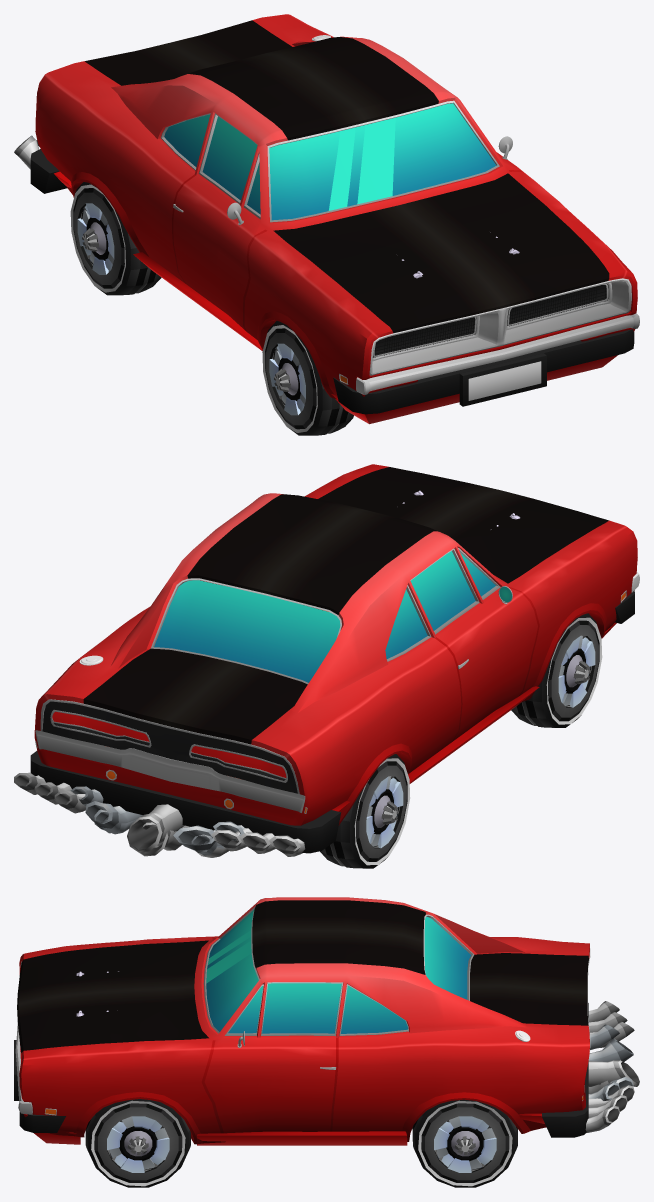
The model's file is Car.fbx.
3 views of the same model, one above another, from view 1: azimuth 30°, elevation 25°; view 2: azimuth 150°, elevation 25°; view 3: azimuth 270°, elevation 25° (orthographic). The views are drawn at different scales.
Parts seen in each view (by area): view 1: CarTop, CarHood, CarBase, Wheel_Lvl3F, Wheel_Lvl3B, Wheel_Lvl5F, Wheel_Lvl5B, Wheel_Lvl4B, Wheel_Lvl2F, Wheel_Lvl2B, Wheel_Lvl4F; view 2: CarTop, CarHood, CarBase, Exhaust_Lvl5, Wheel_Lvl3B, Wheel_Lvl3F, Exhaust_Lvl3, Wheel_Lvl5B, Wheel_Lvl5F, Wheel_Lvl4B, Wheel_Lvl2B, Wheel_Lvl2F (+1 smaller); view 3: CarTop, CarHood, CarBase, Wheel_Lvl3B, Wheel_Lvl3F, Exhaust_Lvl5, Wheel_Lvl5F, Wheel_Lvl5B, Exhaust_Lvl3, Wheel_Lvl2B, Wheel_Lvl2F, Wheel_Lvl4B (+1 smaller).
Boxes of the visible parts, x1,y1,x2,y2 form: CarTop: [35, 14, 639, 399]; CarHood: [273, 173, 609, 326]; CarBase: [30, 149, 634, 424]; Wheel_Lvl3F: [265, 328, 348, 435]; Wheel_Lvl3B: [73, 188, 155, 294]; Wheel_Lvl5F: [262, 321, 322, 435]; Wheel_Lvl5B: [70, 182, 130, 295]; Wheel_Lvl4B: [80, 205, 161, 295]; Wheel_Lvl2F: [274, 350, 305, 404]; Wheel_Lvl2B: [82, 210, 114, 264]; Wheel_Lvl4F: [272, 346, 353, 435]; CarTop: [34, 464, 639, 825]; CarHood: [318, 467, 608, 583]; CarBase: [30, 590, 634, 853]; Exhaust_Lvl5: [14, 772, 305, 856]; Wheel_Lvl3B: [325, 761, 407, 868]; Wheel_Lvl3F: [516, 620, 599, 727]; Exhaust_Lvl3: [70, 786, 244, 855]; Wheel_Lvl5B: [350, 754, 410, 868]; Wheel_Lvl5F: [542, 613, 602, 727]; Wheel_Lvl4B: [101, 745, 399, 868]; Wheel_Lvl2B: [367, 776, 397, 846]; Wheel_Lvl2F: [559, 635, 585, 706]; CarTop: [15, 897, 590, 1144]; CarHood: [18, 940, 208, 1050]; CarBase: [14, 1003, 588, 1145]; Wheel_Lvl3B: [412, 1103, 517, 1182]; Wheel_Lvl3F: [85, 1103, 190, 1182]; Exhaust_Lvl5: [585, 1001, 639, 1132]; Wheel_Lvl5F: [88, 1099, 188, 1187]; Wheel_Lvl5B: [415, 1099, 515, 1187]; Exhaust_Lvl3: [588, 1024, 633, 1100]; Wheel_Lvl2B: [436, 1116, 494, 1169]; Wheel_Lvl2F: [109, 1116, 167, 1169]; Wheel_Lvl4B: [413, 1107, 517, 1171].
Size of the model in its own units: 218 by 160 by 450.
